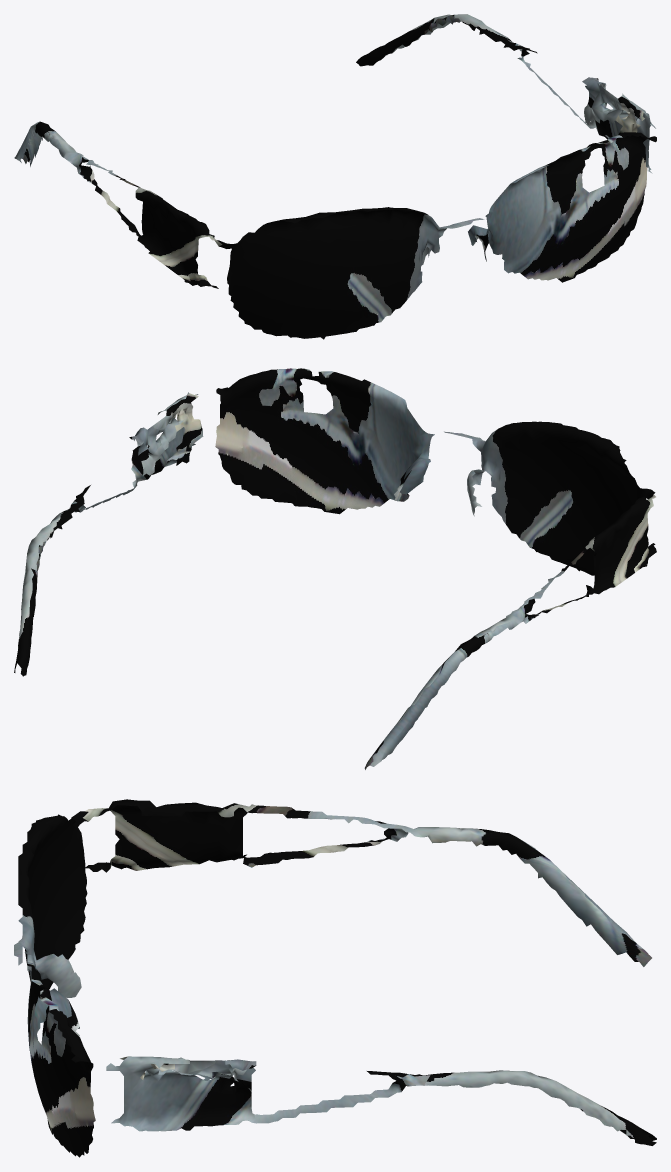
The model's file is scan_align.obj.
3 renders of one model, top to bottom at view 1: azimuth 30°, elevation 25°; view 2: azimuth 150°, elevation 25°; view 3: azimuth 270°, elevation 25°, orthographic. The views are drawn at different scales.
Size of the model in its own units: 0.1428 by 0.039 by 0.146.
